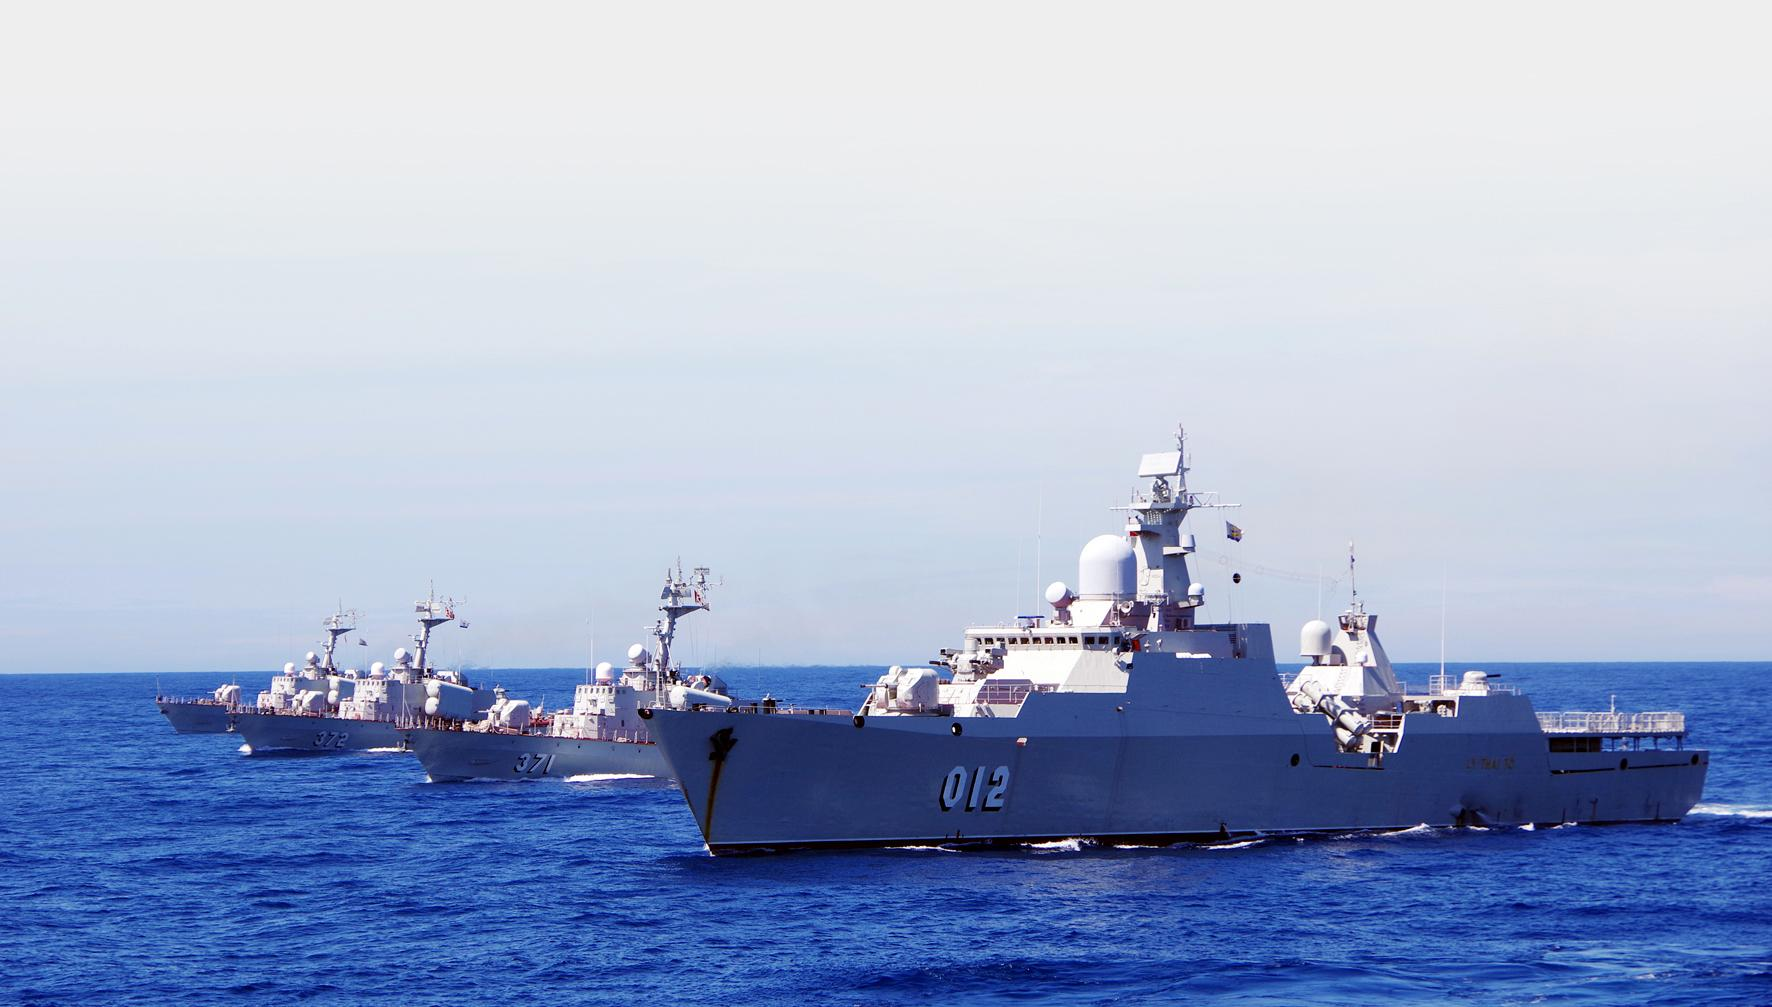MIL_Ship: (633, 430, 1718, 858), (394, 550, 747, 790), (232, 591, 497, 756), (147, 610, 357, 732)
